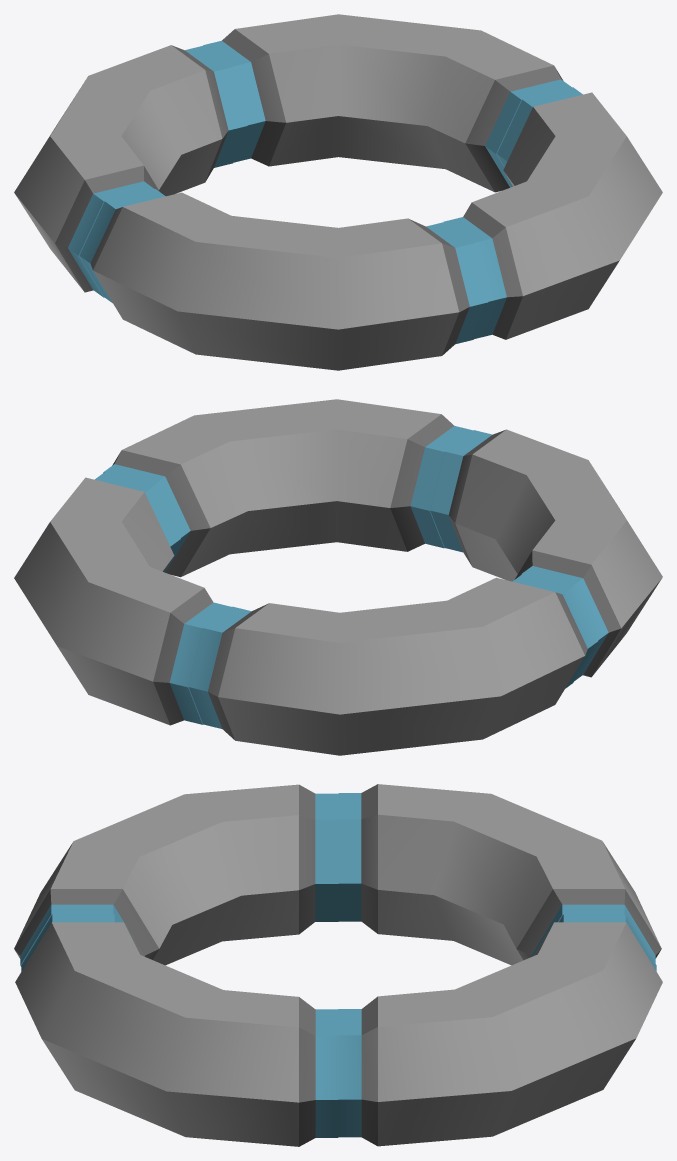
The model's file is Form_Torus.fbx.
3 renders of one model, top to bottom at view 1: azimuth 30°, elevation 25°; view 2: azimuth 150°, elevation 25°; view 3: azimuth 270°, elevation 25°, orthographic. The views are drawn at different scales.
Visible parts, largest first — view 1: Form_Torus_P01, Form_Torus_P04, Form_Torus_P02, Form_Torus_P03; view 2: Form_Torus_P03, Form_Torus_P02, Form_Torus_P04, Form_Torus_P01; view 3: Form_Torus_P04, Form_Torus_P02, Form_Torus_P01, Form_Torus_P03.
Part boxes in pixels (<box>): Form_Torus_P01: <box>79,189,488,370</box>; Form_Torus_P04: <box>203,14,571,192</box>; Form_Torus_P02: <box>444,87,662,339</box>; Form_Torus_P03: <box>14,45,247,297</box>; Form_Torus_P03: <box>188,574,598,755</box>; Form_Torus_P02: <box>103,399,473,577</box>; Form_Torus_P04: <box>14,472,231,725</box>; Form_Torus_P01: <box>430,429,662,680</box>; Form_Torus_P04: <box>338,914,662,1146</box>; Form_Torus_P02: <box>15,914,338,1146</box>; Form_Torus_P01: <box>14,784,338,966</box>; Form_Torus_P03: <box>338,784,661,965</box>.
Size of the model in its own units: 78.69 by 15.99 by 78.69.
